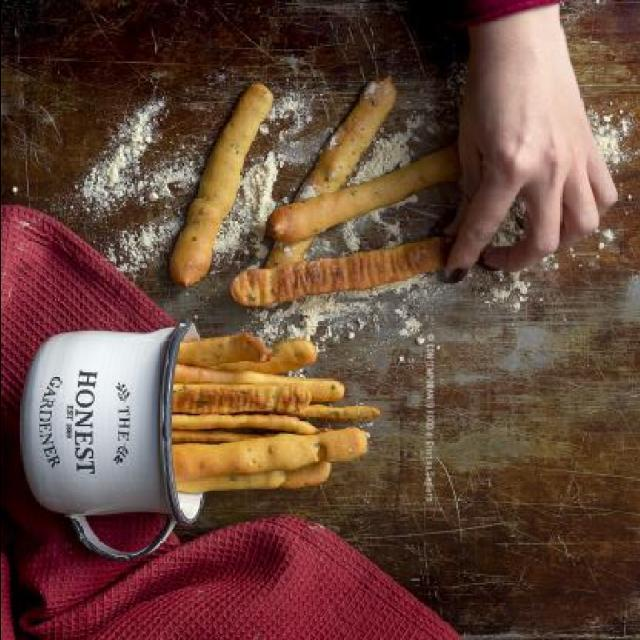Grissini: (174, 336, 382, 514), (170, 78, 274, 288)
